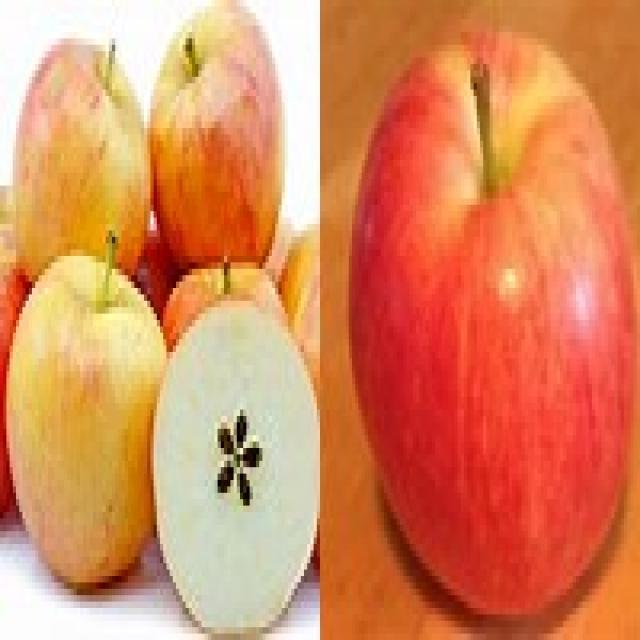Apple: (346, 25, 640, 627), (152, 282, 319, 631), (5, 239, 153, 596), (147, 0, 284, 261), (10, 36, 152, 257), (160, 236, 292, 307)
